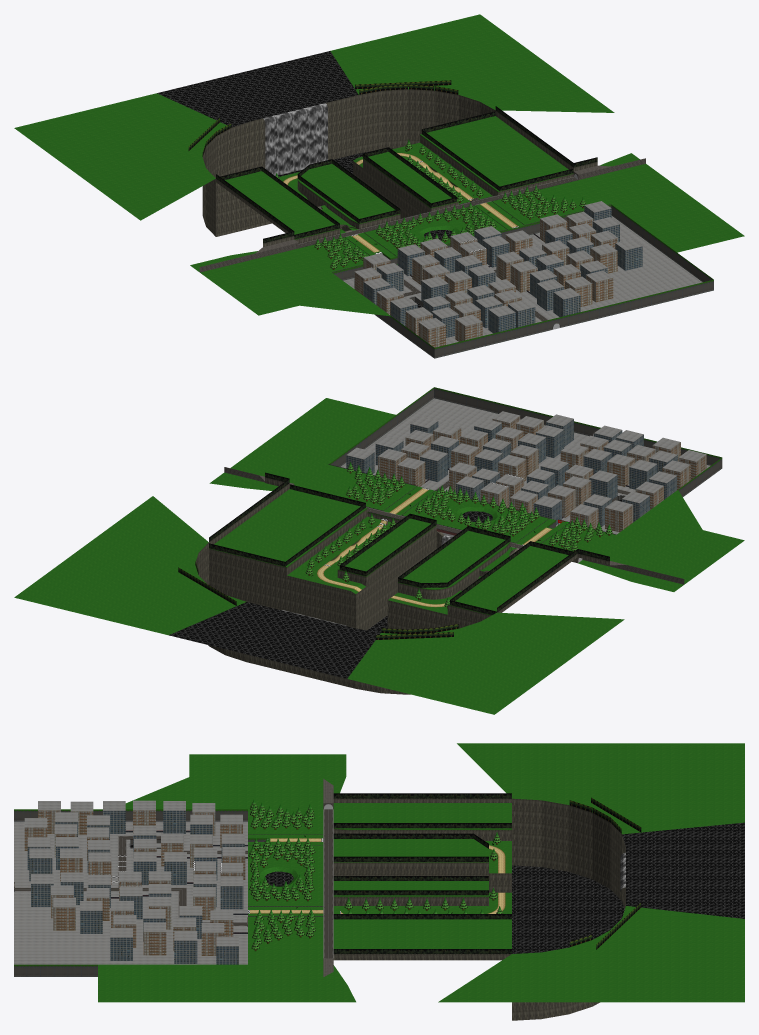
3 renders of one model, top to bottom at view 1: azimuth 30°, elevation 25°; view 2: azimuth 150°, elevation 25°; view 3: azimuth 270°, elevation 25°, orthographic. The views are drawn at different scales.
Parts seen in each view (by area): view 1: City_Back_Natures_Remodeling_SKP__kusa.001, City_Back_Natures_Remodeling_SKP__sidewalk.001, City_Back_Natures_Remodeling_SKP__wall2.001, City_Back_Natures_Remodeling_SKP__water.001, City_Back_Natures_Remodeling_SKP__building2.001, City_Back_Natures_Remodeling_SKP__building1.001, City_Back_Natures_Remodeling_SKP__citywall.001, City_Back_Natures_Remodeling_SKP__Material3.001, City_Back_Natures_Remodeling_SKP__Material01.001, City_Back_Natures_Remodeling_SKP__fall.001, City_Back_Natures_Remodeling_SKP__wall.001, City_Back_Natures_Remodeling_SKP__tunnel.001 (+3 smaller); view 2: City_Back_Natures_Remodeling_SKP__kusa.001, City_Back_Natures_Remodeling_SKP__sidewalk.001, City_Back_Natures_Remodeling_SKP__wall2.001, City_Back_Natures_Remodeling_SKP__water.001, City_Back_Natures_Remodeling_SKP__building1.001, City_Back_Natures_Remodeling_SKP__building2.001, City_Back_Natures_Remodeling_SKP__Material3.001, City_Back_Natures_Remodeling_SKP__Material01.001, City_Back_Natures_Remodeling_SKP__wall.001, City_Back_Natures_Remodeling_SKP__citywall.001, City_Back_Natures_Remodeling_SKP__backroad.001, City_Back_Natures_Remodeling_SKP__tree.001 (+1 smaller); view 3: City_Back_Natures_Remodeling_SKP__kusa.001, City_Back_Natures_Remodeling_SKP__sidewalk.001, City_Back_Natures_Remodeling_SKP__water.001, City_Back_Natures_Remodeling_SKP__wall2.001, City_Back_Natures_Remodeling_SKP__building2.001, City_Back_Natures_Remodeling_SKP__Material3.001, City_Back_Natures_Remodeling_SKP__building1.001, City_Back_Natures_Remodeling_SKP__Material01.001, City_Back_Natures_Remodeling_SKP__wall.001, City_Back_Natures_Remodeling_SKP__highway_.001, City_Back_Natures_Remodeling_SKP__citywall.001, City_Back_Natures_Remodeling_SKP__tree.001 (+2 smaller).
Part boxes in pixels (box(x1,y1,x2,y2)): City_Back_Natures_Remodeling_SKP__kusa.001: box(14, 14, 744, 316); City_Back_Natures_Remodeling_SKP__sidewalk.001: box(343, 201, 702, 344); City_Back_Natures_Remodeling_SKP__wall2.001: box(202, 89, 597, 246); City_Back_Natures_Remodeling_SKP__water.001: box(157, 51, 451, 307); City_Back_Natures_Remodeling_SKP__building2.001: box(363, 205, 642, 337); City_Back_Natures_Remodeling_SKP__building1.001: box(354, 216, 618, 347); City_Back_Natures_Remodeling_SKP__citywall.001: box(332, 204, 713, 358); City_Back_Natures_Remodeling_SKP__Material3.001: box(216, 106, 597, 243); City_Back_Natures_Remodeling_SKP__Material01.001: box(275, 139, 585, 269); City_Back_Natures_Remodeling_SKP__fall.001: box(263, 103, 327, 175); City_Back_Natures_Remodeling_SKP__wall.001: box(216, 134, 573, 243); City_Back_Natures_Remodeling_SKP__tunnel.001: box(199, 158, 645, 329); City_Back_Natures_Remodeling_SKP__kusa.001: box(14, 398, 744, 714); City_Back_Natures_Remodeling_SKP__sidewalk.001: box(341, 398, 710, 534); City_Back_Natures_Remodeling_SKP__wall2.001: box(196, 477, 609, 694); City_Back_Natures_Remodeling_SKP__water.001: box(169, 500, 621, 678); City_Back_Natures_Remodeling_SKP__building1.001: box(378, 416, 706, 532); City_Back_Natures_Remodeling_SKP__building2.001: box(346, 419, 677, 526); City_Back_Natures_Remodeling_SKP__Material3.001: box(209, 472, 609, 614); City_Back_Natures_Remodeling_SKP__Material01.001: box(305, 462, 612, 608); City_Back_Natures_Remodeling_SKP__wall.001: box(209, 508, 577, 622); City_Back_Natures_Remodeling_SKP__citywall.001: box(329, 387, 722, 528); City_Back_Natures_Remodeling_SKP__backroad.001: box(317, 488, 552, 607); City_Back_Natures_Remodeling_SKP__tree.001: box(178, 561, 458, 639); City_Back_Natures_Remodeling_SKP__kusa.001: box(98, 743, 744, 1002); City_Back_Natures_Remodeling_SKP__sidewalk.001: box(14, 800, 247, 964); City_Back_Natures_Remodeling_SKP__water.001: box(130, 822, 744, 953); City_Back_Natures_Remodeling_SKP__wall2.001: box(333, 798, 625, 1020); City_Back_Natures_Remodeling_SKP__building2.001: box(27, 810, 244, 964); City_Back_Natures_Remodeling_SKP__Material3.001: box(333, 793, 511, 953); City_Back_Natures_Remodeling_SKP__building1.001: box(24, 810, 245, 955); City_Back_Natures_Remodeling_SKP__Material01.001: box(248, 799, 502, 951); City_Back_Natures_Remodeling_SKP__wall.001: box(333, 828, 511, 905); City_Back_Natures_Remodeling_SKP__highway_.001: box(15, 809, 333, 958); City_Back_Natures_Remodeling_SKP__citywall.001: box(14, 809, 267, 976); City_Back_Natures_Remodeling_SKP__tree.001: box(569, 797, 641, 949).
Bounding box in the file's own units: 211807 × 27432 × 252437.
34 materials, 33 textured.
